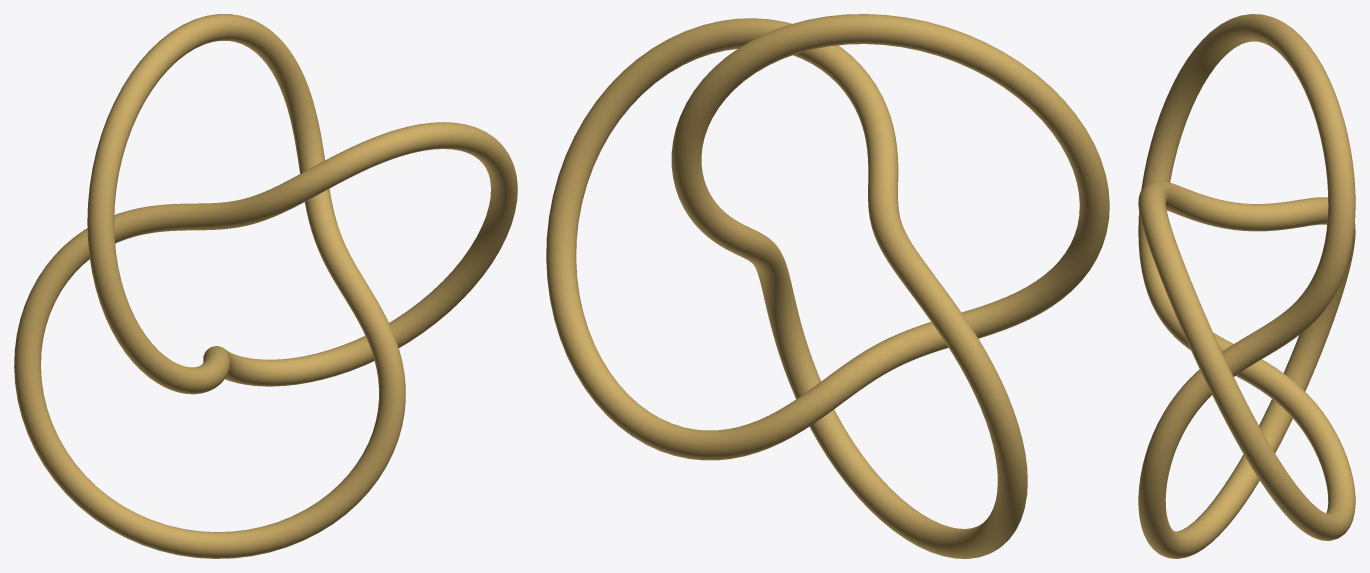
File: ring.glb
3 renders of one model, left to right at view 1: azimuth 30°, elevation 25°; view 2: azimuth 150°, elevation 25°; view 3: azimuth 270°, elevation 25°, orthographic. The views are drawn at different scales.
Parts seen in each view (by area): view 1: EngagementRing; view 2: EngagementRing; view 3: EngagementRing.
Part boxes in pixels (box(x1,y1,x2,y2)): EngagementRing: box(14, 14, 517, 558); EngagementRing: box(546, 14, 1109, 558); EngagementRing: box(1138, 14, 1355, 558).
Bounding box in the file's own units: 2.03 × 2.14 × 0.8239.
